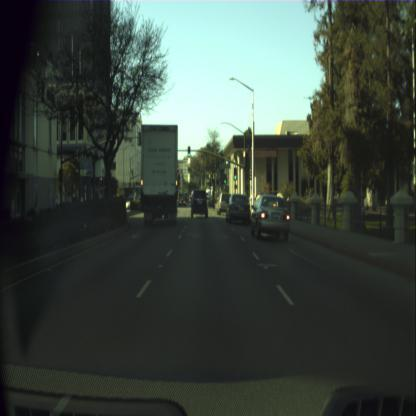Green: (233, 168, 236, 180), (187, 146, 190, 156), (223, 173, 226, 183), (211, 178, 213, 186), (188, 168, 190, 173)
Red: (176, 167, 178, 172)
RedLeft: (100, 176, 104, 186)
